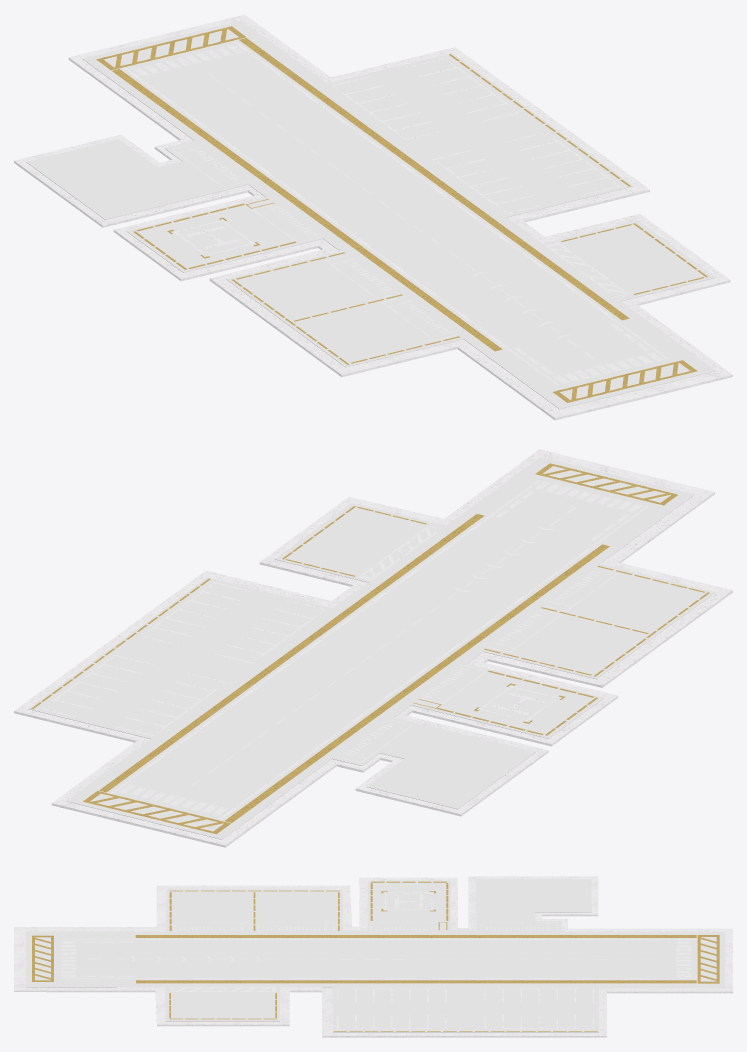
File: Runway.gltf
The picture shows the model from 3 angles, top to bottom: view 1: azimuth 30°, elevation 25°; view 2: azimuth 150°, elevation 25°; view 3: azimuth 270°, elevation 25°; orthographic projection. The views are drawn at different scales.
Visible parts, largest first — view 1: 3DSMeshMatrix.033, 3DSMeshMatrix.032, 3DSMeshMatrix.021, 3DSMeshMatrix.020, 3DSMeshMatrix.026, 3DSMeshMatrix.017, 3DSMeshMatrix.016, 3DSMeshMatrix.011, 3DSMeshMatrix.010, 3DSMeshMatrix.039, 3DSMeshMatrix.034, 3DSMeshMatrix.025 (+1 smaller); view 2: 3DSMeshMatrix.033, 3DSMeshMatrix.032, 3DSMeshMatrix.021, 3DSMeshMatrix.020, 3DSMeshMatrix.026, 3DSMeshMatrix.011, 3DSMeshMatrix.016, 3DSMeshMatrix.017, 3DSMeshMatrix.010, 3DSMeshMatrix.039, 3DSMeshMatrix.034, 3DSMeshMatrix.025; view 3: 3DSMeshMatrix.033, 3DSMeshMatrix.032, 3DSMeshMatrix.020, 3DSMeshMatrix.021, 3DSMeshMatrix.017, 3DSMeshMatrix.026, 3DSMeshMatrix.011, 3DSMeshMatrix.010, 3DSMeshMatrix.034, 3DSMeshMatrix.016, 3DSMeshMatrix.025, 3DSMeshMatrix.039 (+8 smaller).
Part boxes in pixels (x1,y1,x2,y2): 3DSMeshMatrix.033: [26, 20, 715, 409]; 3DSMeshMatrix.032: [14, 14, 732, 420]; 3DSMeshMatrix.021: [112, 69, 502, 351]; 3DSMeshMatrix.020: [239, 38, 629, 320]; 3DSMeshMatrix.026: [507, 321, 668, 385]; 3DSMeshMatrix.017: [124, 67, 508, 348]; 3DSMeshMatrix.016: [233, 41, 617, 321]; 3DSMeshMatrix.011: [96, 26, 246, 70]; 3DSMeshMatrix.010: [553, 360, 697, 402]; 3DSMeshMatrix.039: [194, 150, 451, 334]; 3DSMeshMatrix.034: [231, 252, 459, 364]; 3DSMeshMatrix.025: [133, 44, 243, 76]; 3DSMeshMatrix.033: [28, 457, 715, 839]; 3DSMeshMatrix.032: [14, 449, 732, 847]; 3DSMeshMatrix.021: [224, 544, 609, 822]; 3DSMeshMatrix.020: [99, 514, 484, 792]; 3DSMeshMatrix.026: [489, 480, 648, 542]; 3DSMeshMatrix.011: [83, 791, 231, 834]; 3DSMeshMatrix.016: [110, 516, 490, 793]; 3DSMeshMatrix.017: [218, 543, 597, 819]; 3DSMeshMatrix.010: [535, 463, 677, 505]; 3DSMeshMatrix.039: [348, 571, 601, 752]; 3DSMeshMatrix.034: [484, 566, 709, 676]; 3DSMeshMatrix.025: [119, 784, 228, 816]; 3DSMeshMatrix.033: [25, 879, 725, 1032]; 3DSMeshMatrix.032: [14, 876, 732, 1037]; 3DSMeshMatrix.020: [136, 980, 696, 983]; 3DSMeshMatrix.021: [135, 935, 696, 937]; 3DSMeshMatrix.017: [136, 939, 696, 940]; 3DSMeshMatrix.026: [61, 939, 135, 978]; 3DSMeshMatrix.011: [697, 935, 719, 983]; 3DSMeshMatrix.010: [32, 935, 53, 981]; 3DSMeshMatrix.034: [169, 890, 339, 930]; 3DSMeshMatrix.016: [136, 978, 696, 978]; 3DSMeshMatrix.025: [676, 941, 691, 977]; 3DSMeshMatrix.039: [179, 927, 543, 930].
Size of the model in its own units: 71.08 by 0.5003 by 135.
5 materials, 4 textured.
